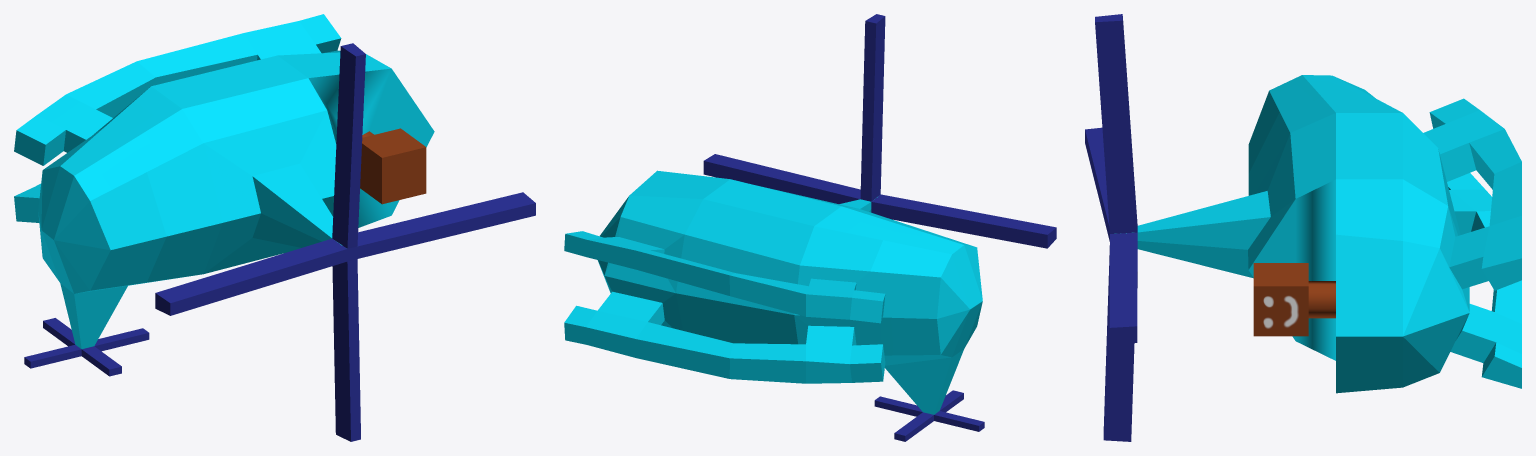
The model's file is chopper.glb.
3 views of the same model, side by side, from view 1: azimuth 30°, elevation 25°; view 2: azimuth 150°, elevation 25°; view 3: azimuth 270°, elevation 25° (orthographic). The views are drawn at different scales.
Visible parts, largest first — view 1: Chopper; view 2: Chopper; view 3: Chopper.
Part boxes in pixels (x1,y1,x2,y2): Chopper: (14,14,535,441); Chopper: (564,14,1056,441); Chopper: (1085,14,1521,441).
Bounding box in the file's own units: 5.09 × 4.64 × 4.36.
1 material, 1 textured.
